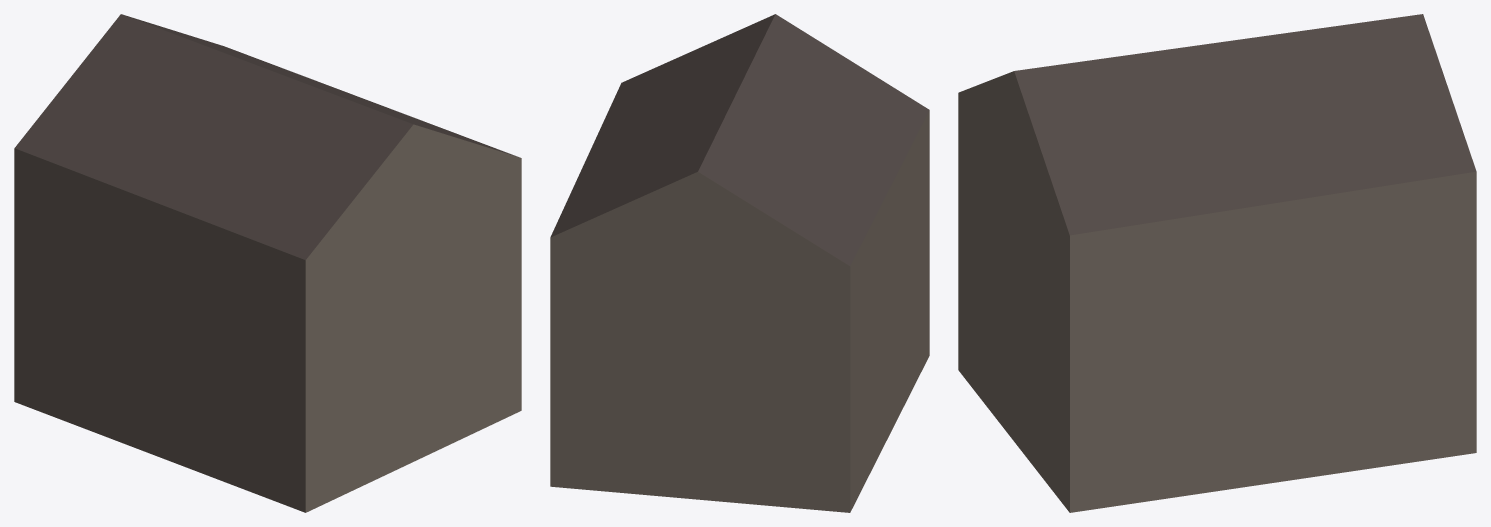
3 views of the same model, side by side, from view 1: azimuth 30°, elevation 25°; view 2: azimuth 150°, elevation 25°; view 3: azimuth 270°, elevation 25° (orthographic). The views are drawn at different scales.
Visible parts, largest first — view 1: HP-w1198645107; view 2: HP-w1198645107; view 3: HP-w1198645107.
Boxes of the visible parts, <box> form: HP-w1198645107: <box>14,14,521,512</box>; HP-w1198645107: <box>550,14,929,512</box>; HP-w1198645107: <box>958,14,1476,512</box>.
Bounding box in the file's own units: 9.22 × 8.01 × 10.16.
